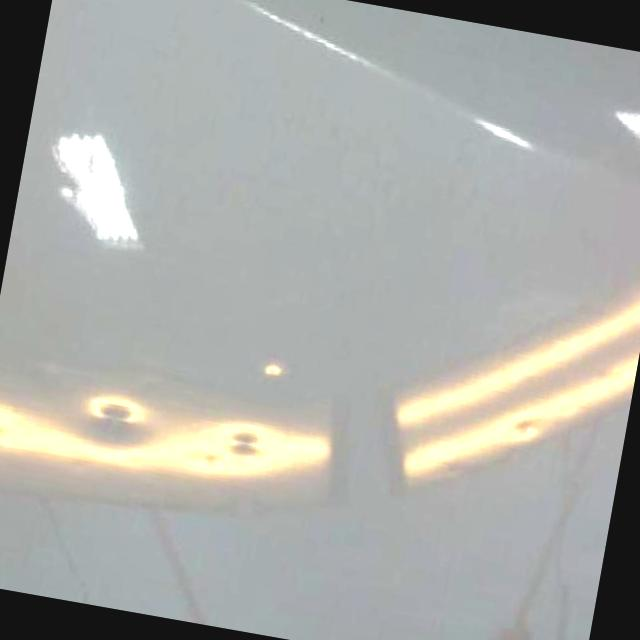dent: (84, 390, 150, 440), (220, 423, 271, 468), (184, 447, 224, 474), (508, 415, 538, 444), (263, 358, 286, 382), (0, 400, 9, 445)
